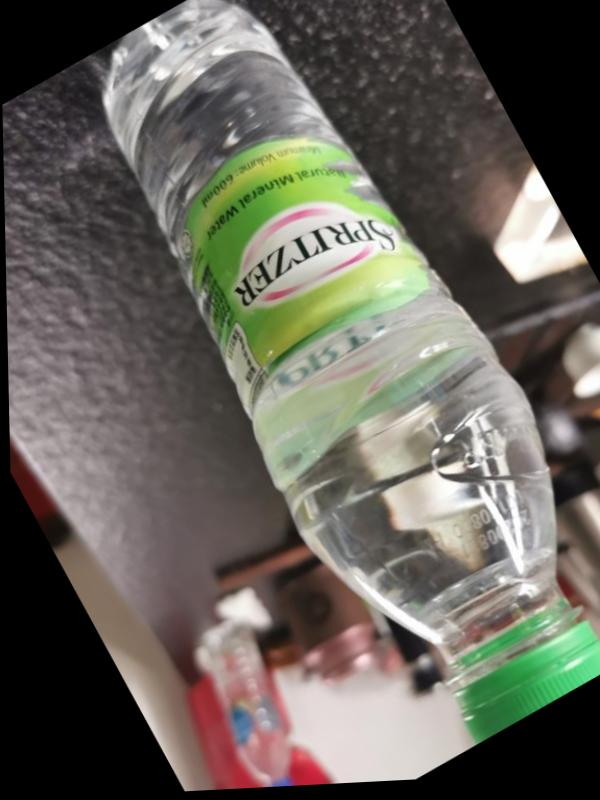plastic: (49, 0, 600, 788)
